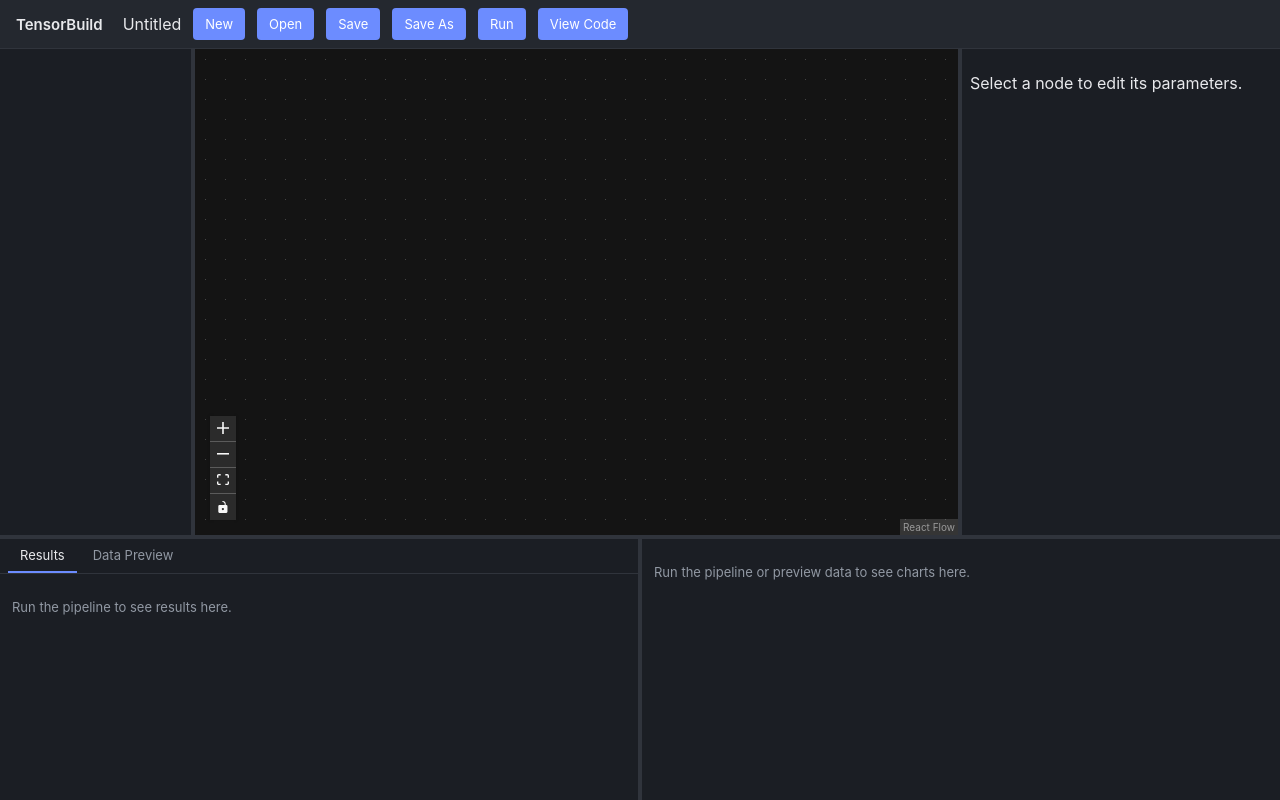
Test case: App › shows a streamed training error (node_error/connection lost) on the Results tab
Click the button "Run" at x=502, y=24, box [478, 8, 526, 40]
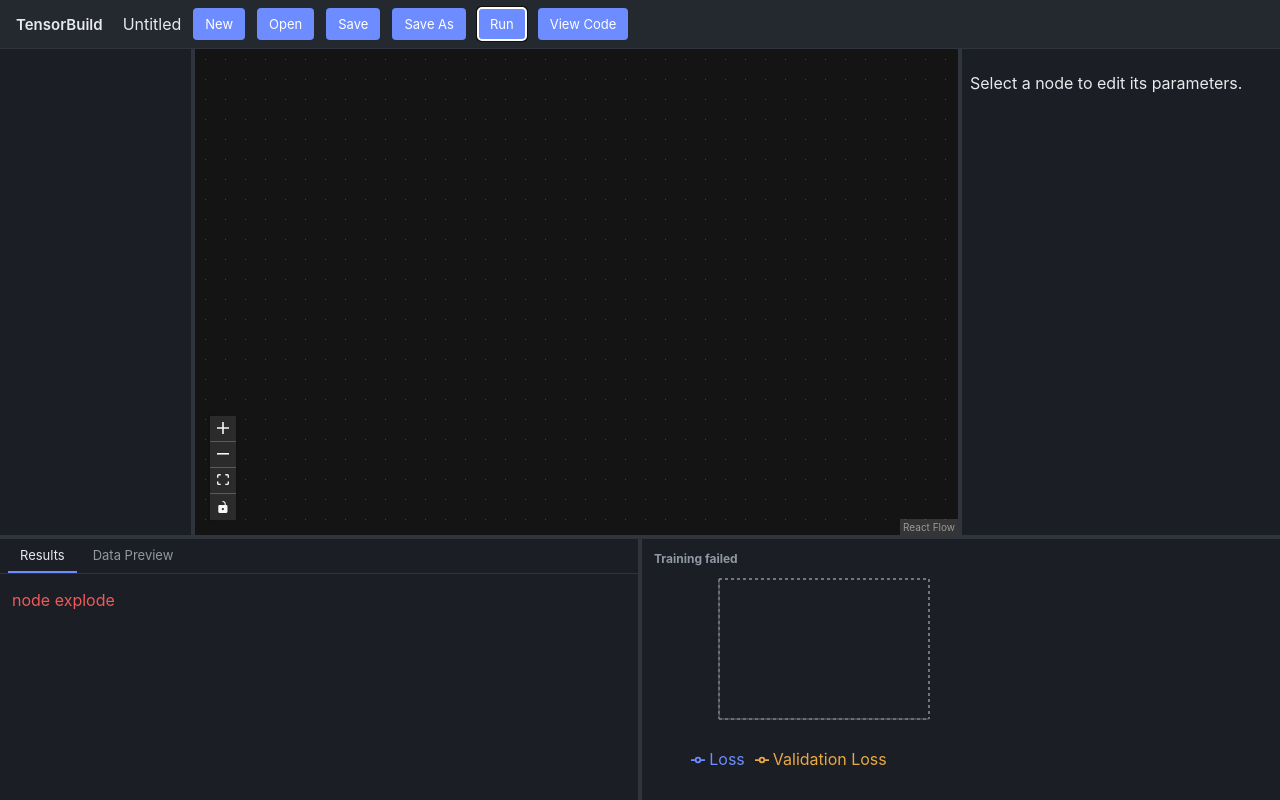
Now the text "node explode" is shown, box [12, 590, 115, 610]
